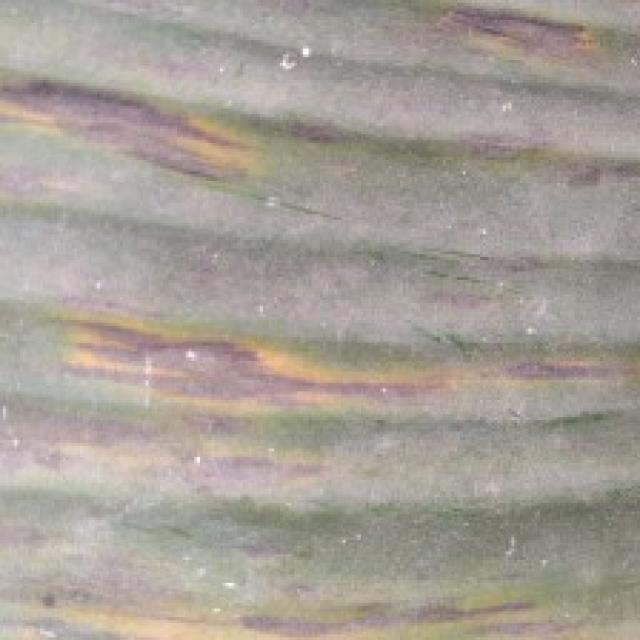Early_leaf_spot: (66, 282, 448, 451), (24, 550, 596, 640), (2, 60, 274, 206), (476, 318, 640, 432), (407, 0, 622, 71)
